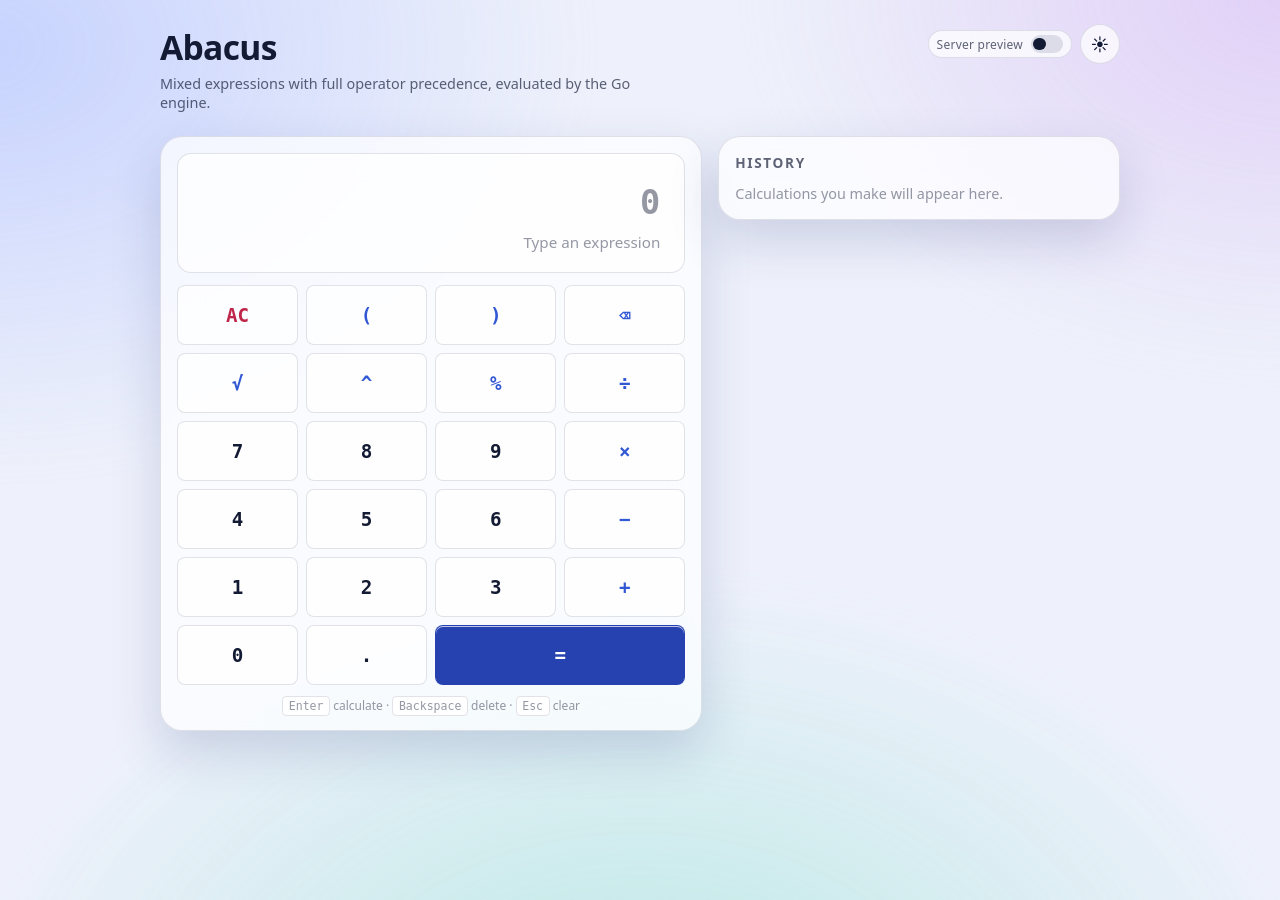
Test case: calculating › reports an unreachable backend in plain language
The image size is (1280, 900).
Click the button "1".
click(238, 587)  # box top-left (177, 557), bottom-right (298, 617)
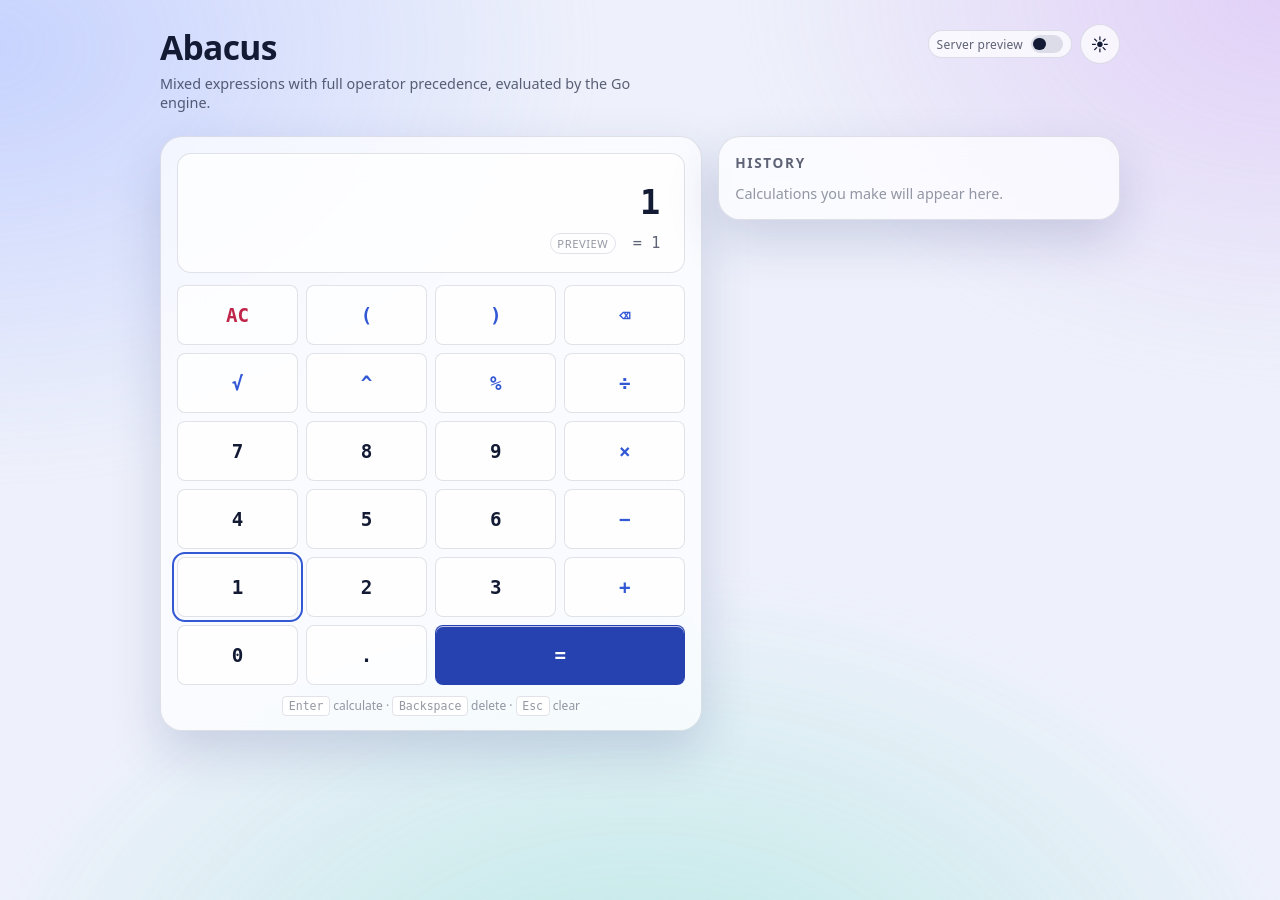
Click the button named "Add".
click(625, 587)  # box top-left (564, 557), bottom-right (685, 617)
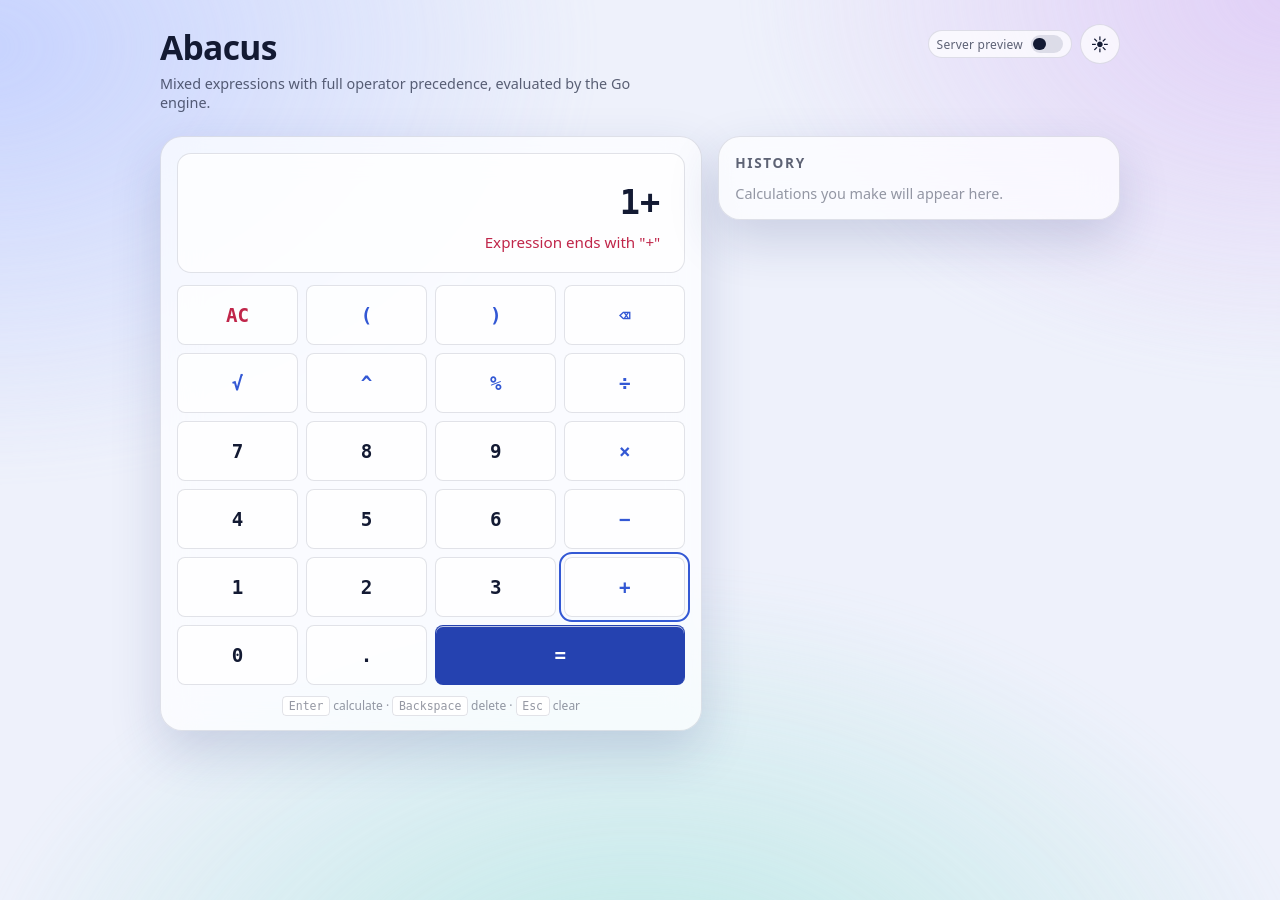
Click the button "1".
click(238, 587)  # box top-left (177, 557), bottom-right (298, 617)
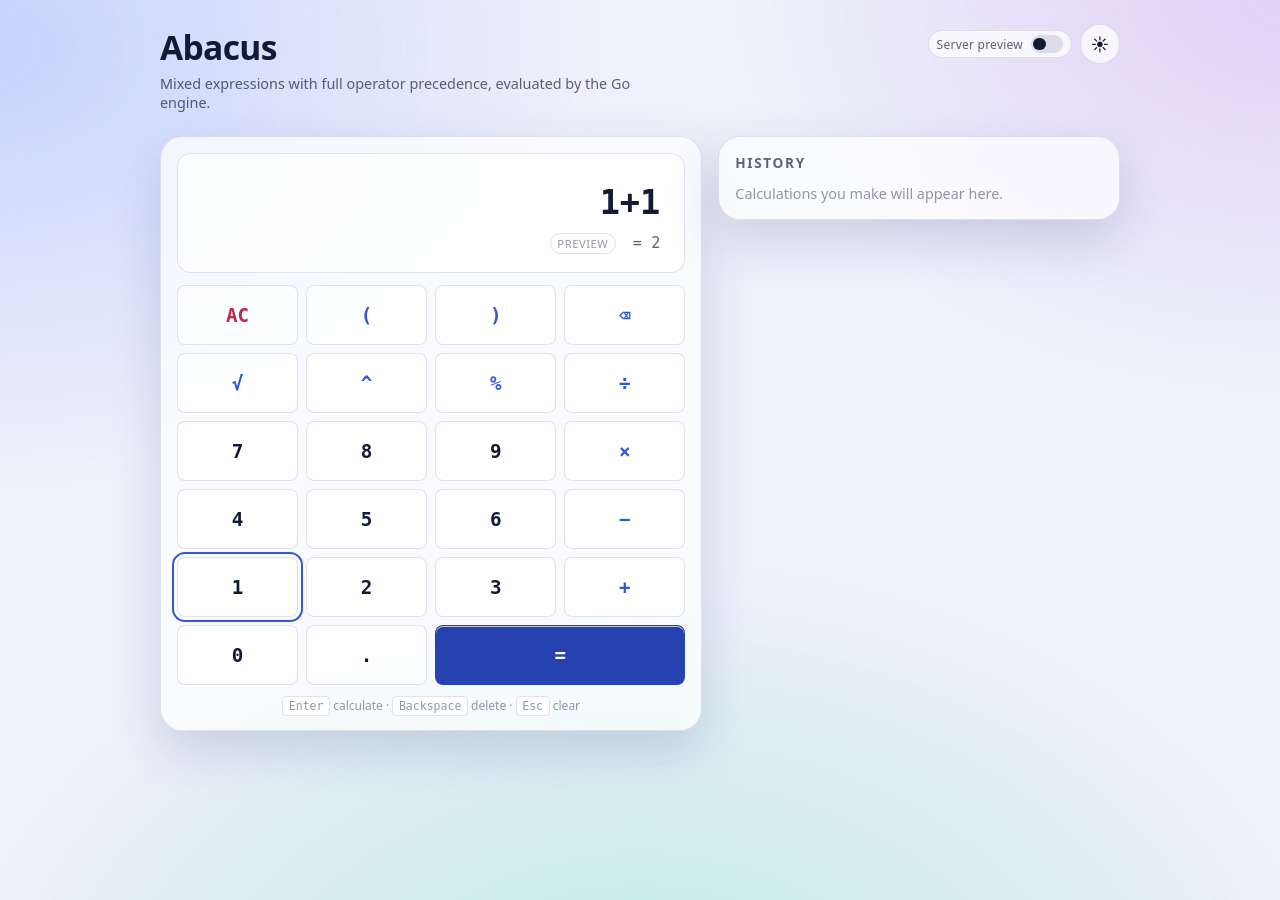
Click the button named "Calculate".
click(560, 655)  # box top-left (435, 625), bottom-right (685, 685)
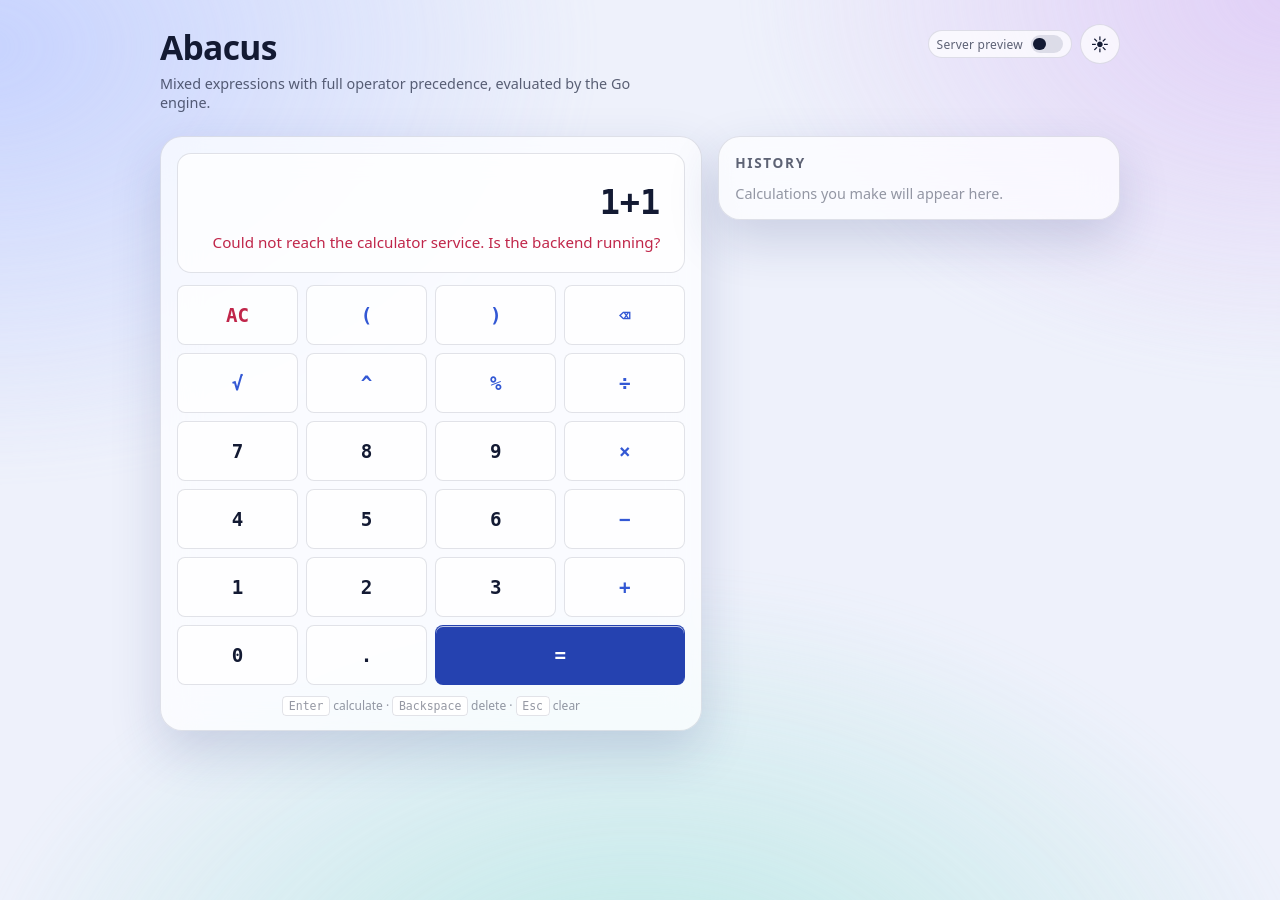
Check: the text with test id "error" shows "Could not reach the calculator service", box top-left (213, 232), bottom-right (660, 252)
